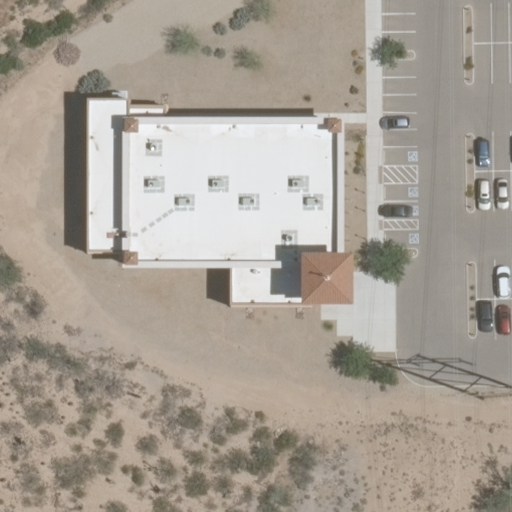DT: (463, 376, 512, 412)
